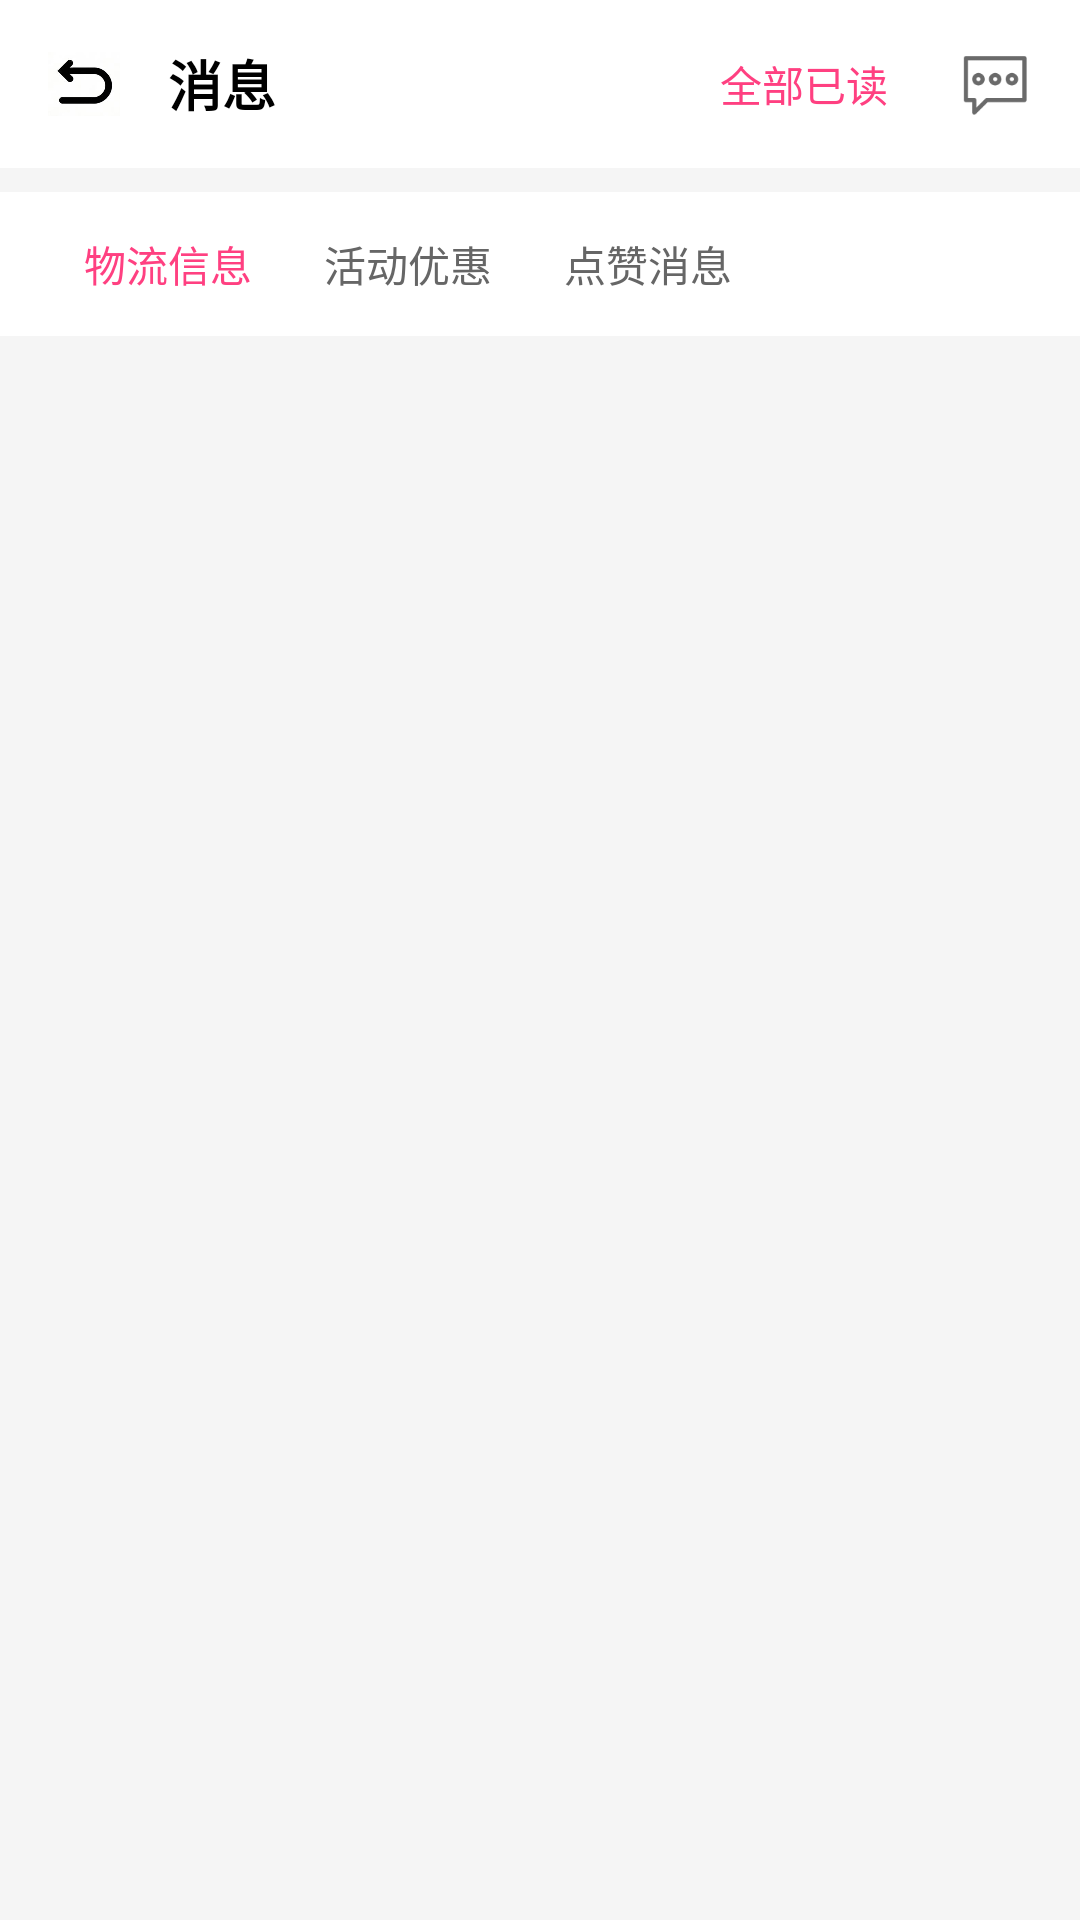

Icons on this 1080px×1920px Android screen, each with its box as (x1, y1, x2, y2):
back: (57, 60, 112, 104)
